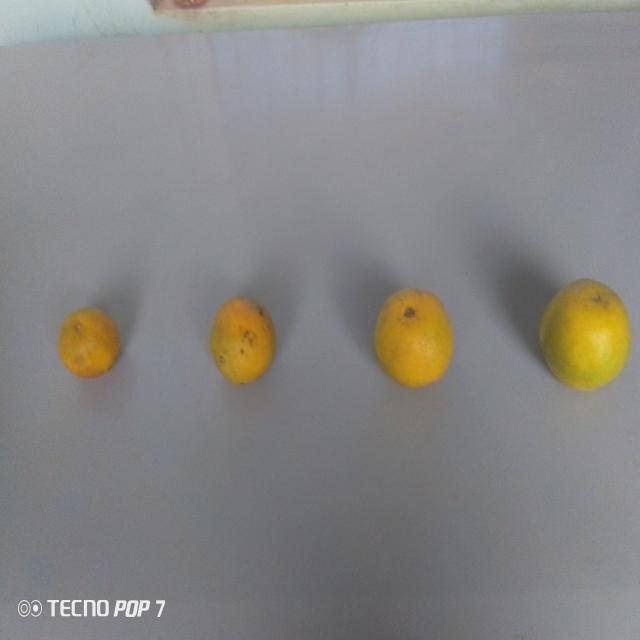Ripe orange: (536, 274, 634, 398), (371, 281, 456, 397), (200, 294, 278, 396), (57, 302, 126, 384)
